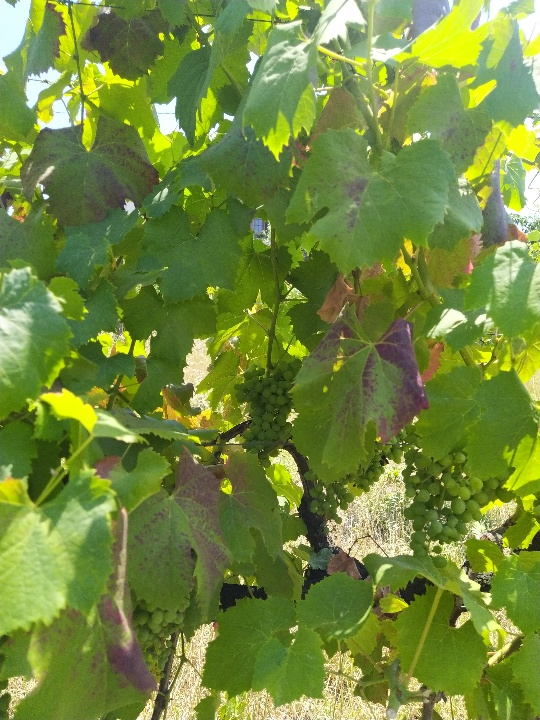grape: (401, 444, 514, 569), (233, 357, 301, 467)
